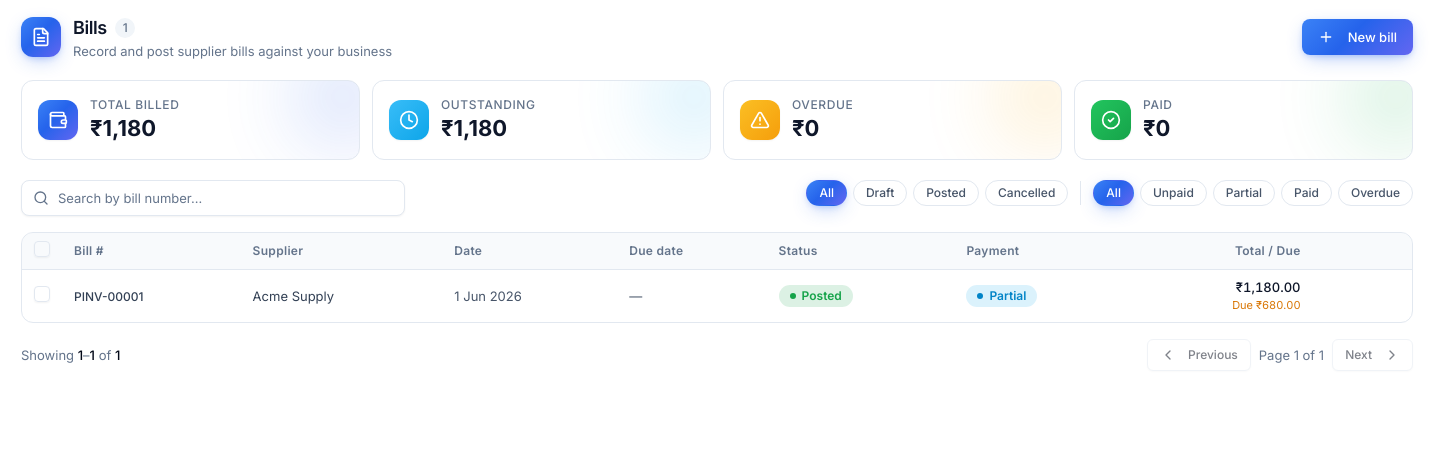
Test: BillsView › reveals the bulk record-payment bar when a payable bill is selected
Expected: the button "record payment" is not shown
Click the checkbox named "Select PINV-00001": (42, 294) [34,286,50,302]
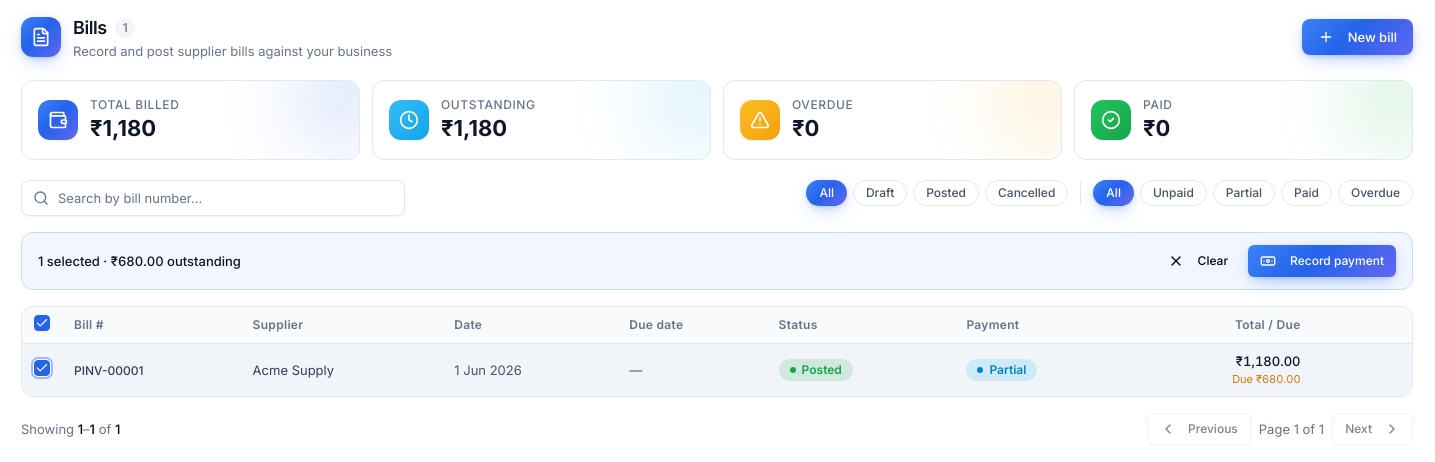
Now the text "1 selected · ₹680.00 outstanding" is shown, box [38,252,241,270]
Now the button "Record payment" is shown, box [1248,245,1396,277]
